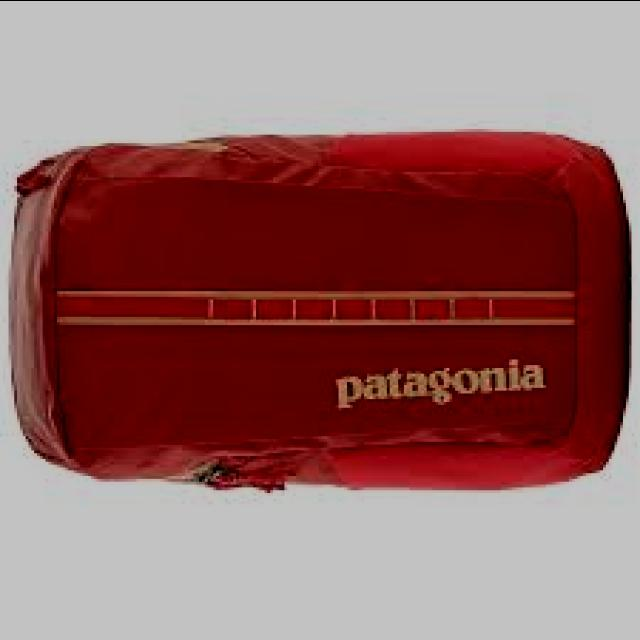backpack: (7, 132, 630, 496)
